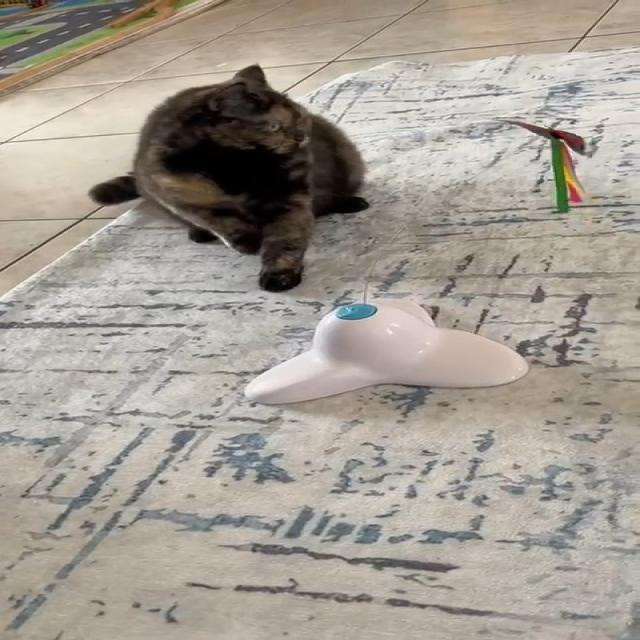authorized: (87, 63, 369, 292)
